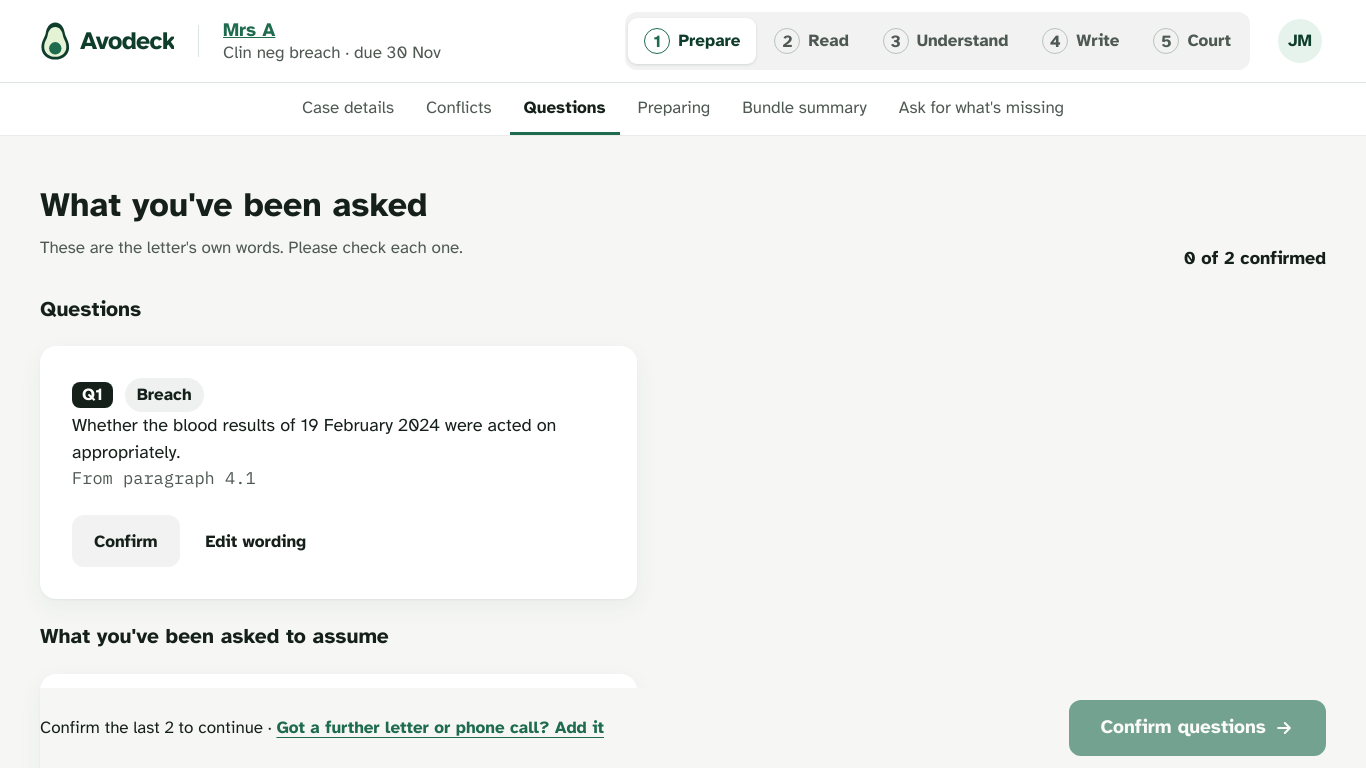
Scenario: confirming a question sends the version you saw
This screenshot has width=1366, height=768.
Step 1. Click the button "Confirm" → (126, 541), box [72,515,180,567]
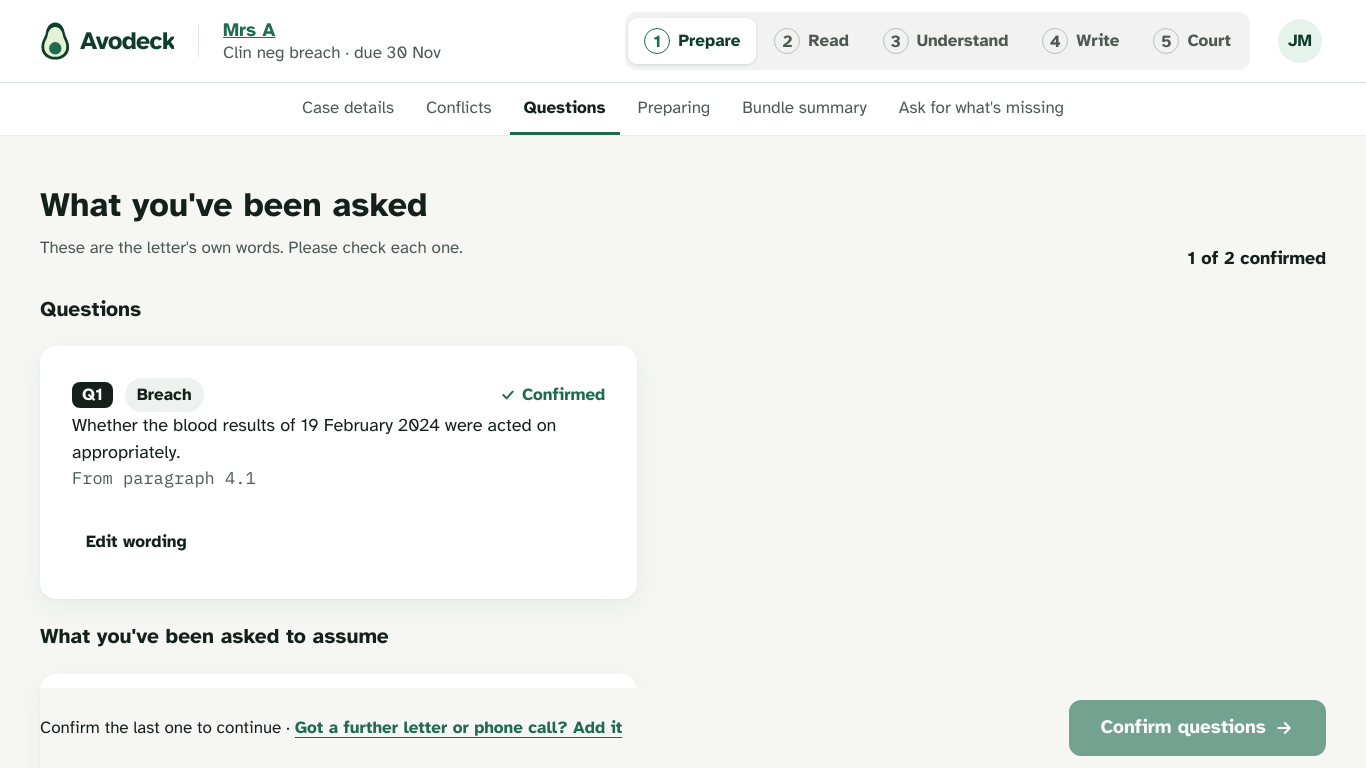
Expected: the text "Confirmed" is shown, [500,382,605,408]
